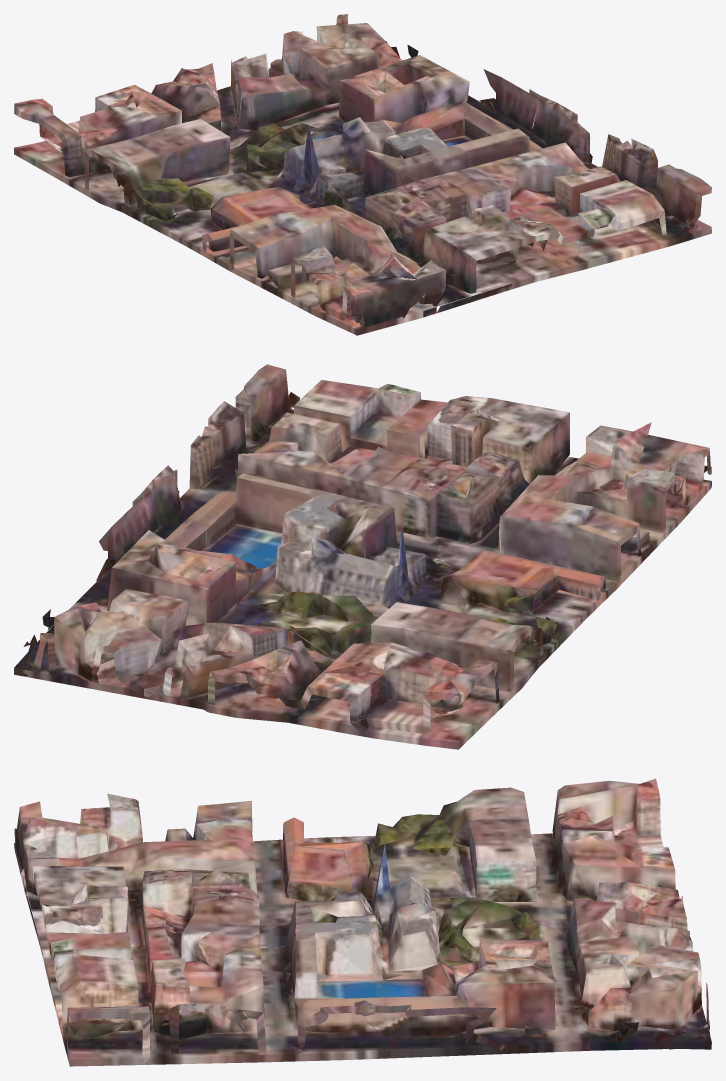
The picture shows the model from 3 angles, top to bottom: view 1: azimuth 30°, elevation 25°; view 2: azimuth 150°, elevation 25°; view 3: azimuth 270°, elevation 25°; orthographic projection. The views are drawn at different scales.
Parts seen in each view (by area): view 1: Mesh_0; view 2: Mesh_0; view 3: Mesh_0.
Part boxes in pixels (box(x1,y1,x2,y2)): Mesh_0: box(14, 14, 711, 335); Mesh_0: box(14, 364, 711, 749); Mesh_0: box(14, 778, 711, 1066).
Size of the model in its own units: 266 by 50.41 by 330.
2 materials, 2 textured.
